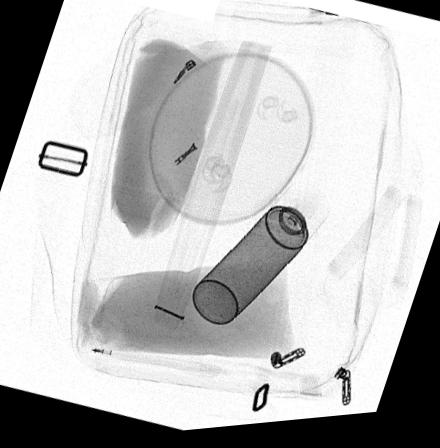Sprayer: (192, 187, 329, 330)
